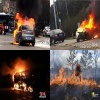fire: (50, 66, 100, 89), (13, 12, 35, 46), (80, 13, 100, 40), (12, 68, 34, 92)
